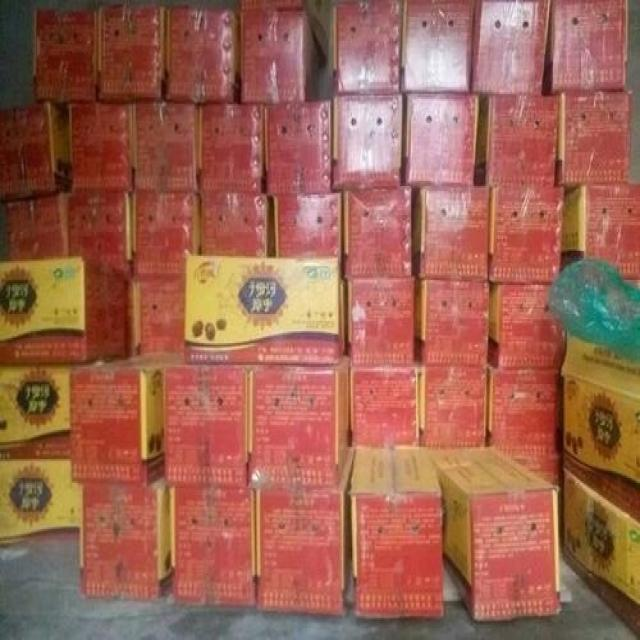box: (421, 445, 561, 620), (184, 253, 347, 365), (348, 445, 444, 618), (561, 328, 640, 522), (247, 345, 351, 490), (559, 469, 640, 640), (0, 256, 125, 362), (79, 473, 177, 601), (252, 486, 347, 616), (72, 355, 165, 485), (164, 353, 248, 486), (175, 485, 256, 606), (486, 369, 563, 490), (475, 90, 561, 188), (540, 2, 627, 97), (239, 10, 324, 104), (411, 184, 492, 282), (468, 2, 552, 96), (401, 90, 479, 189), (163, 3, 239, 104), (561, 186, 640, 282), (330, 92, 402, 196), (488, 188, 564, 285), (557, 89, 630, 188), (399, 0, 475, 94), (0, 457, 83, 543), (486, 283, 567, 370), (0, 360, 72, 457), (415, 276, 489, 370), (261, 99, 332, 193), (0, 102, 69, 198), (342, 184, 411, 280), (96, 3, 163, 101), (334, 0, 402, 96), (196, 102, 266, 193), (347, 276, 416, 367), (131, 101, 198, 193), (132, 191, 201, 280), (239, 0, 333, 65), (69, 101, 132, 193), (349, 367, 421, 447), (416, 367, 486, 449), (35, 10, 97, 102), (68, 193, 133, 278), (200, 189, 276, 259), (0, 189, 69, 259), (275, 191, 342, 259), (133, 276, 186, 357)
